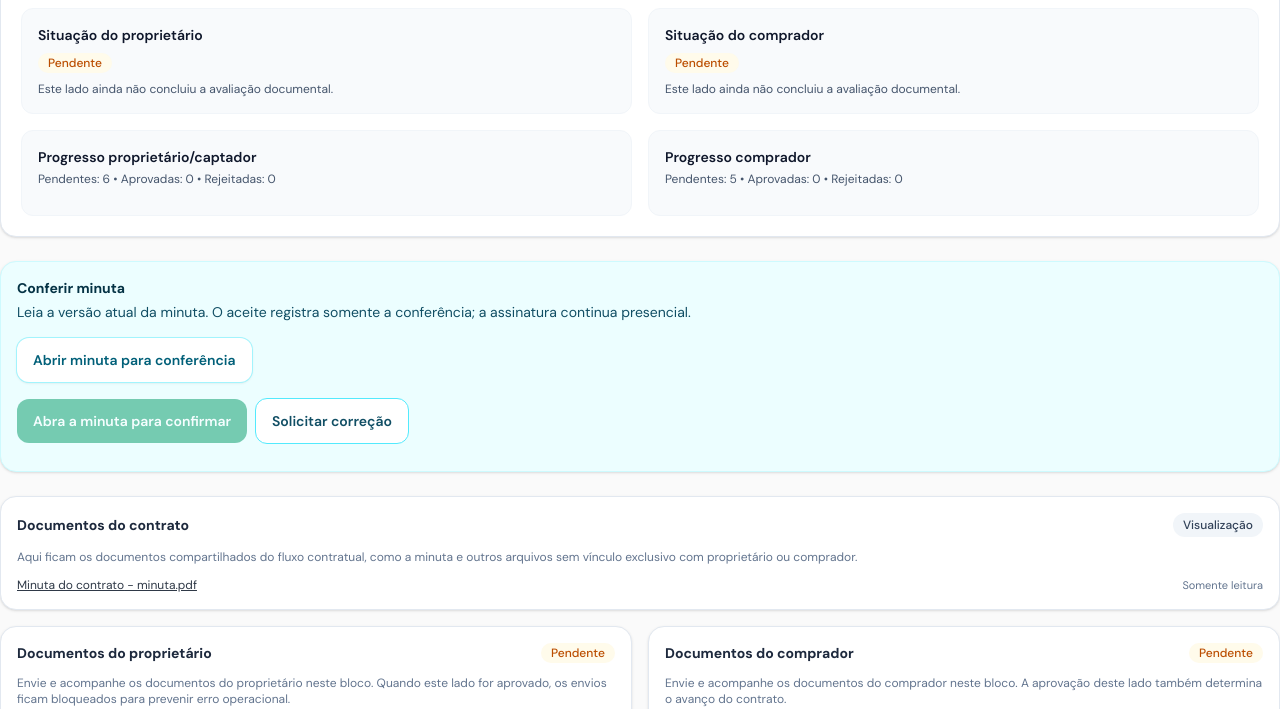
Test: ContractDetailClient › exige a abertura da minuta antes de registrar a conferência do lado atual
(page scrolled)
expect the button "Abra a minuta para confirmar" is disabled: met, box [17,399,247,443]
Click the link "Abrir minuta para conferência" at (134, 360), box [17,338,252,382]
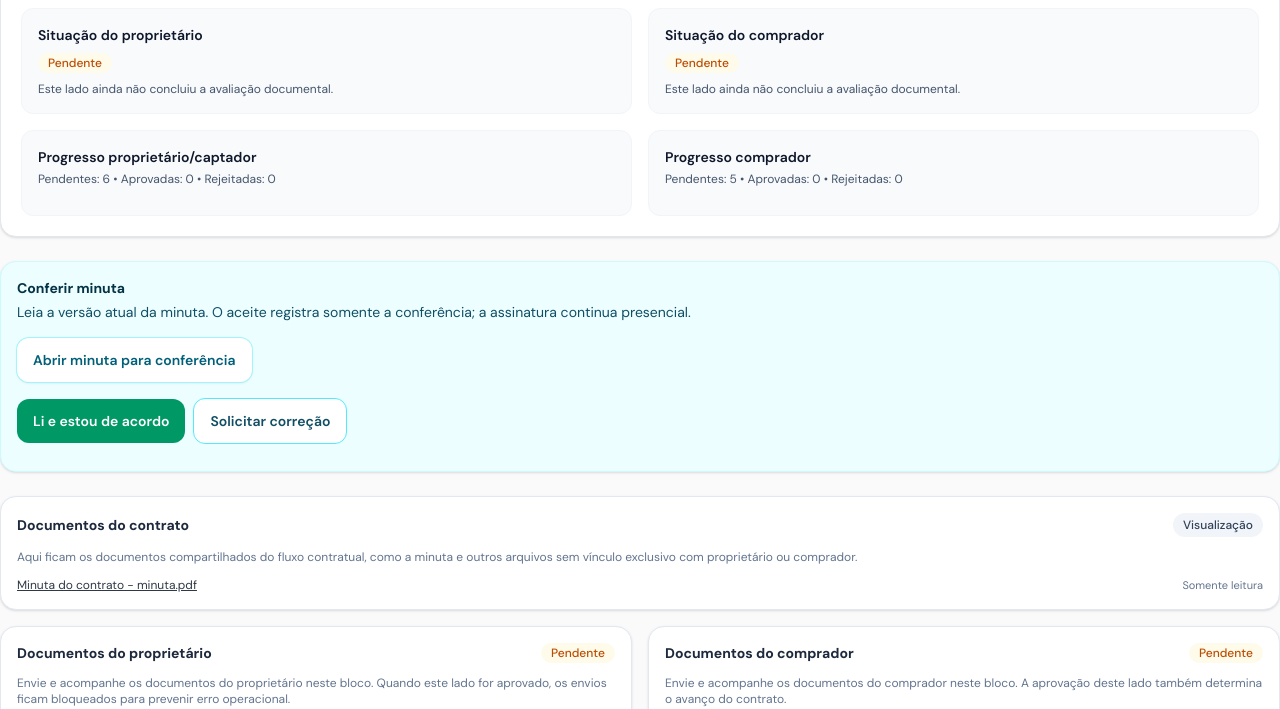
Click the button "Li e estou de acordo" at (101, 421), box [17,399,186,443]
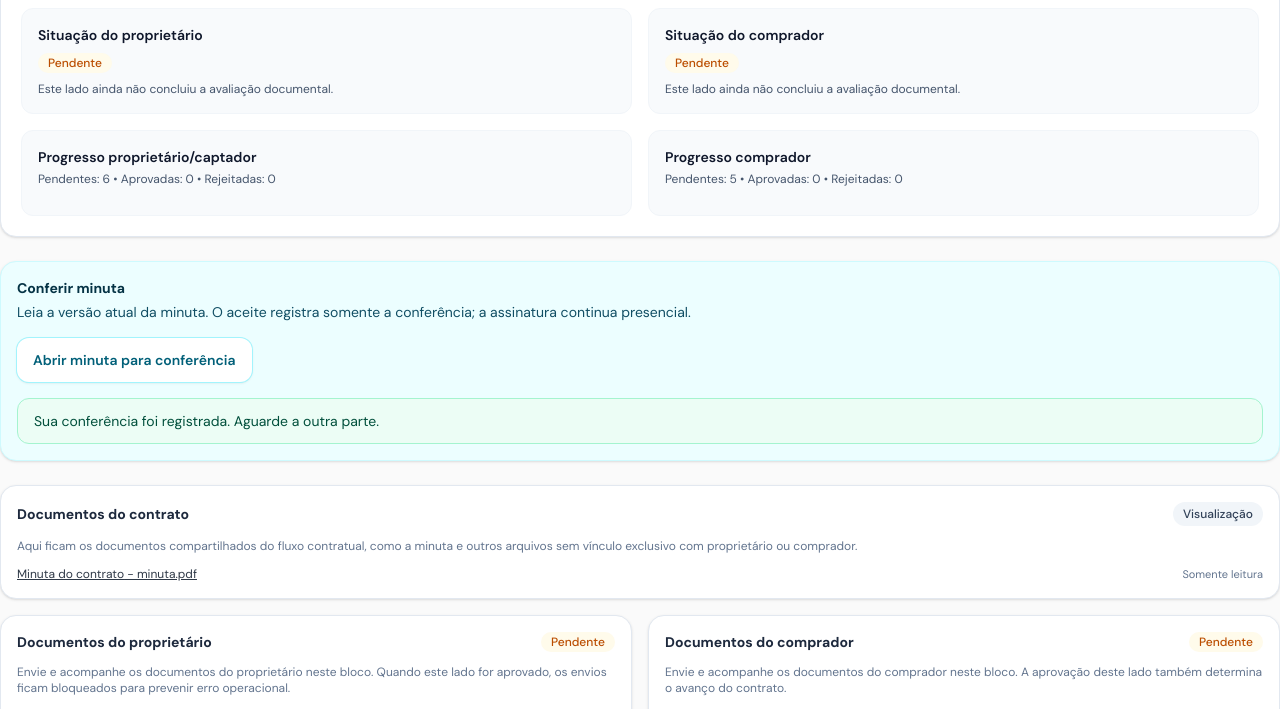
expect the text "Sua conferência foi registrada. Aguarde a outra parte." is shown: met, box [17,398,1263,444]
